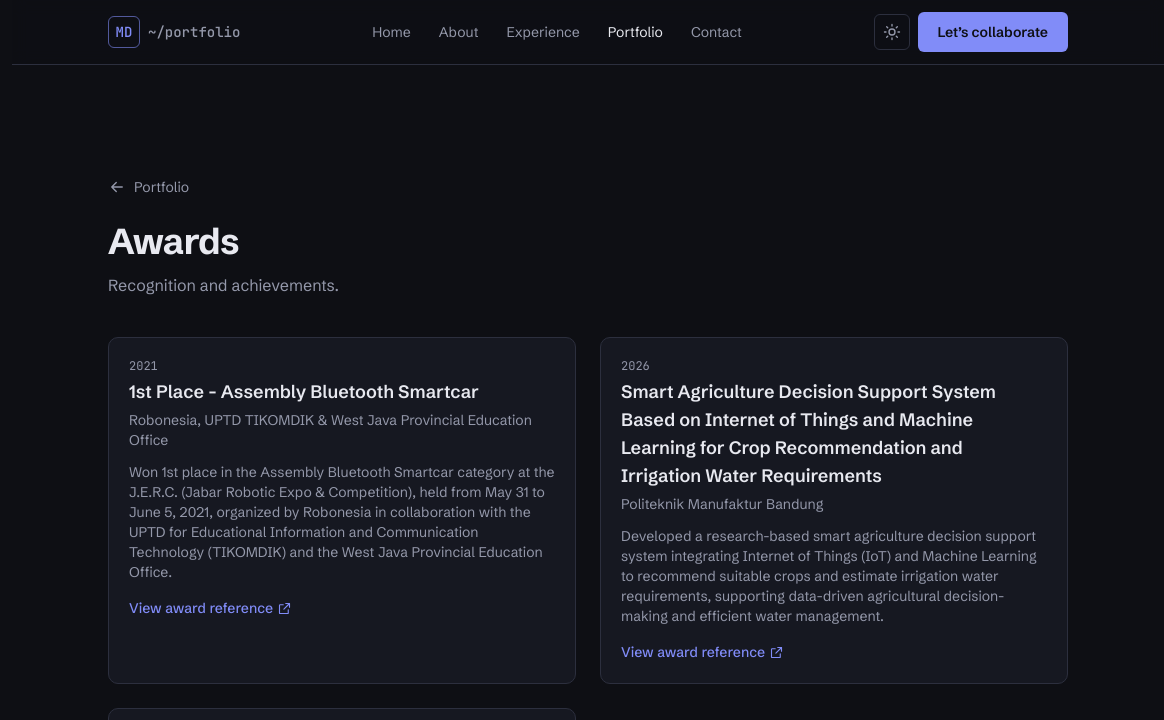
portfolio detail pages › navbar on a detail page goes back to a section of the main page
The width and height of the screenshot is (1164, 720).
Click the link "About" at [459, 32], box [439, 23, 479, 41]
(page scrolled)
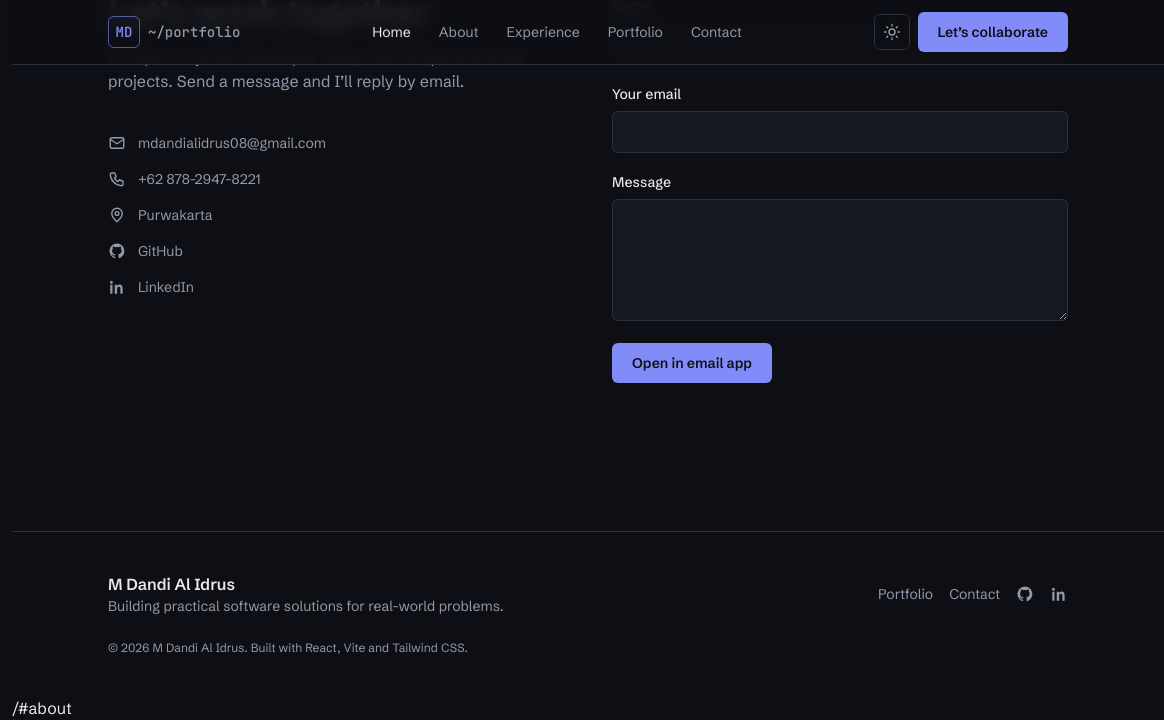
Now the text with test id "loc" reads "/#about", box [12, 698, 72, 718]
